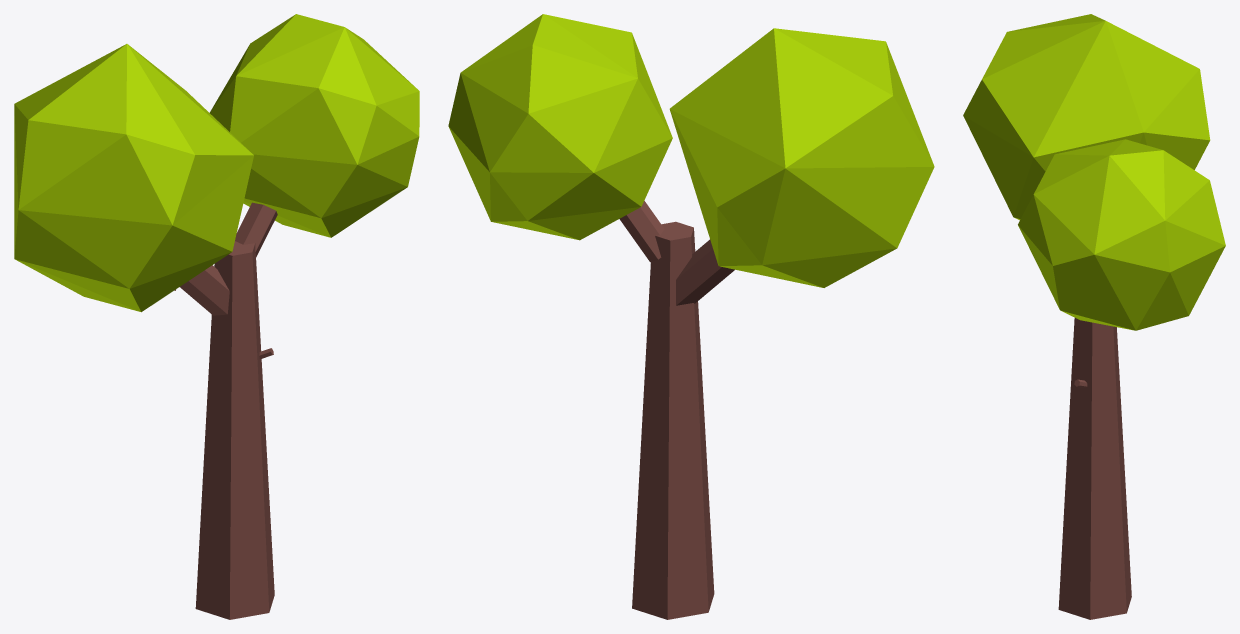
Rendered from MediumTree.fbx.
3 renders of one model, left to right at view 1: azimuth 30°, elevation 25°; view 2: azimuth 150°, elevation 25°; view 3: azimuth 270°, elevation 25°, orthographic. The views are drawn at different scales.
Visible parts, largest first — view 1: Cylinder.005; view 2: Cylinder.005; view 3: Cylinder.005.
Boxes of the visible parts, x1=… form: Cylinder.005: x1=14, y1=14, x2=419, y2=619; Cylinder.005: x1=448, y1=14, x2=934, y2=619; Cylinder.005: x1=963, y1=14, x2=1225, y2=619.
Bounding box in the file's own units: 608 × 806 × 358.
